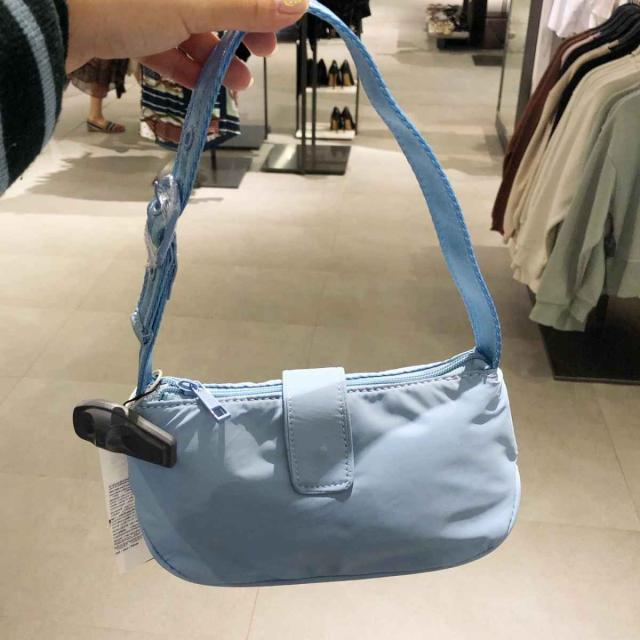Handbag: (89, 345, 538, 586)
